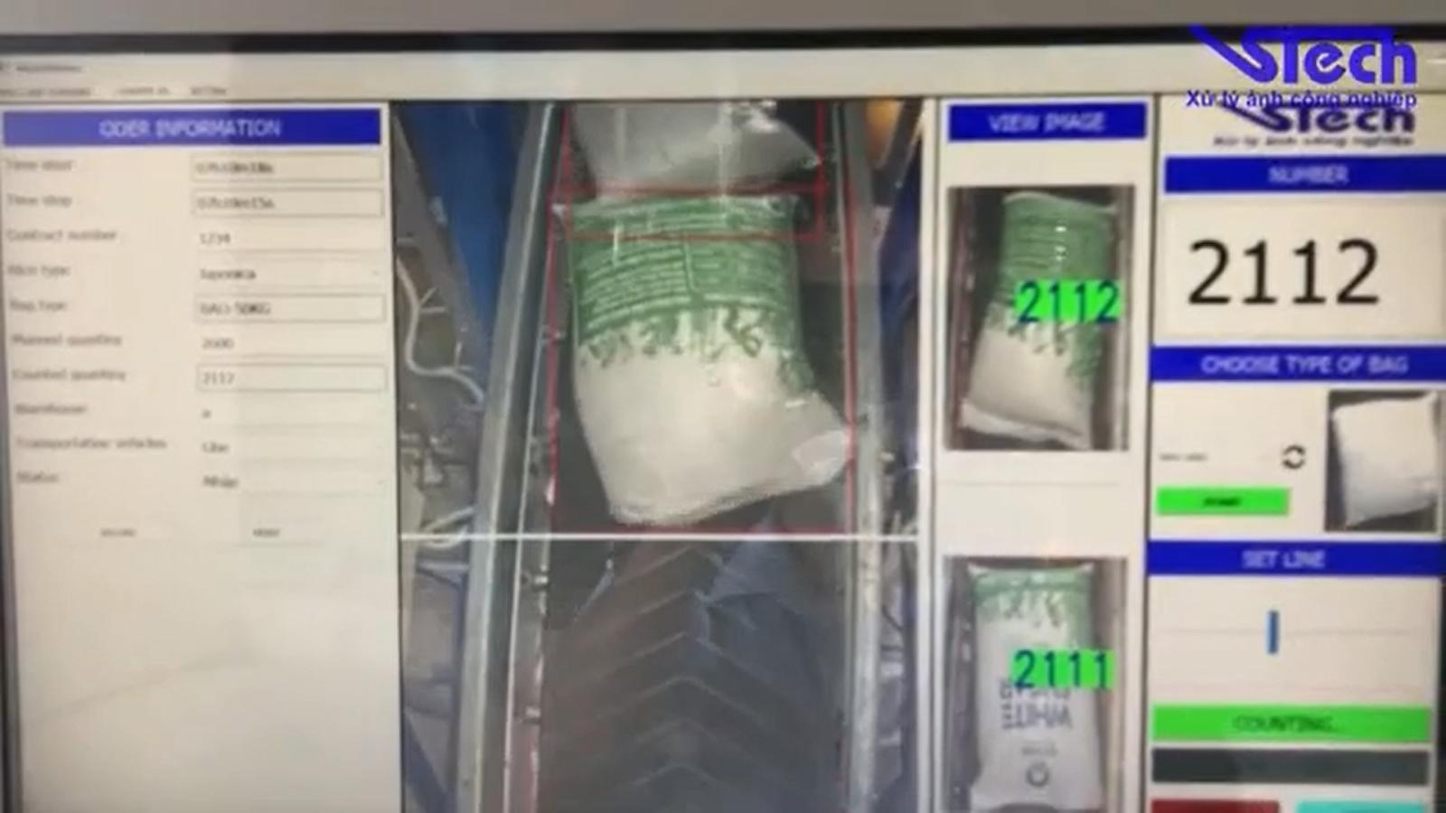rice-bag: (556, 194, 847, 525), (956, 191, 1113, 450), (963, 562, 1104, 812)
